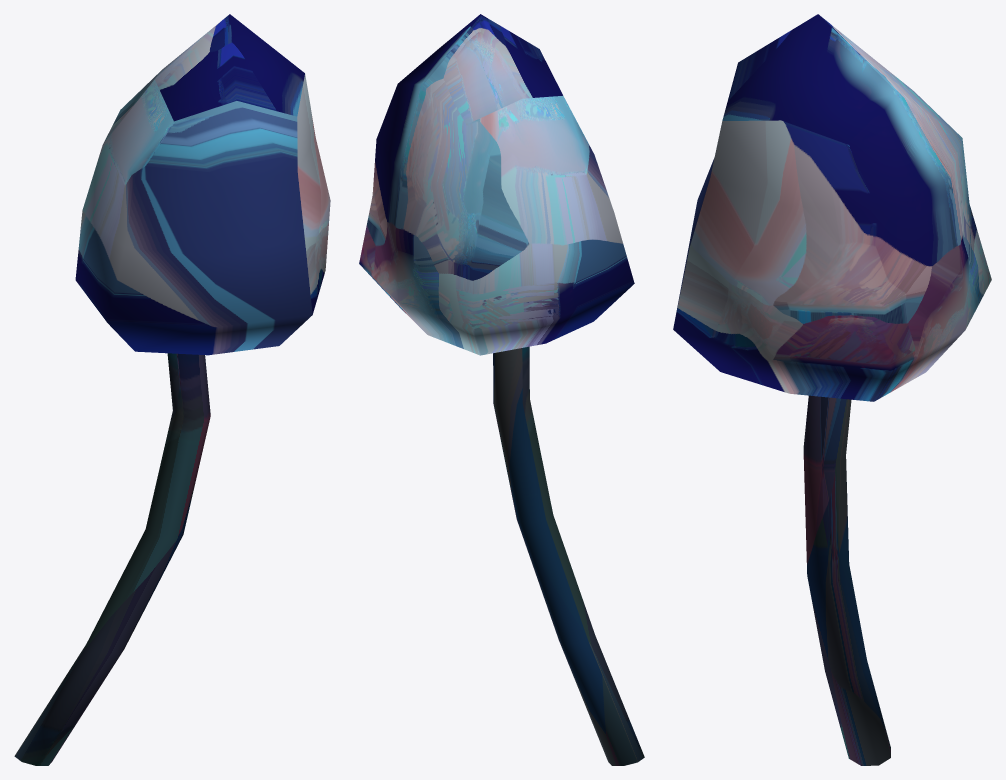
File: mushroom_VAR2_1.fbx
The picture shows the model from 3 angles, left to right: view 1: azimuth 30°, elevation 25°; view 2: azimuth 150°, elevation 25°; view 3: azimuth 270°, elevation 25°; orthographic projection. The views are drawn at different scales.
Parts seen in each view (by area): view 1: Cube, Cylinder.001; view 2: Cube, Cylinder.001; view 3: Cube, Cylinder.001.
Part boxes in pixels (<box>): Cube: <box>75,14,330,355</box>; Cylinder.001: <box>14,353,210,765</box>; Cube: <box>359,14,634,355</box>; Cylinder.001: <box>493,346,644,765</box>; Cube: <box>673,14,991,401</box>; Cylinder.001: <box>803,395,890,765</box>.
Size of the model in its own units: 406 by 984 by 338.
